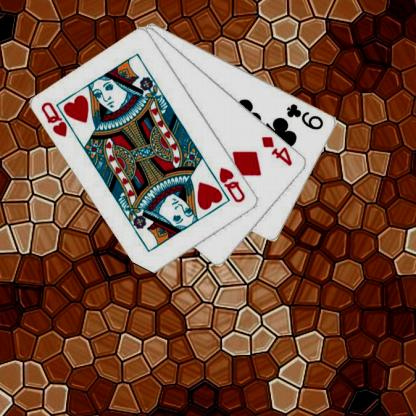4D: (259, 134, 294, 168)
9C: (284, 100, 325, 132)
QH: (38, 99, 78, 138), (217, 165, 247, 204)
